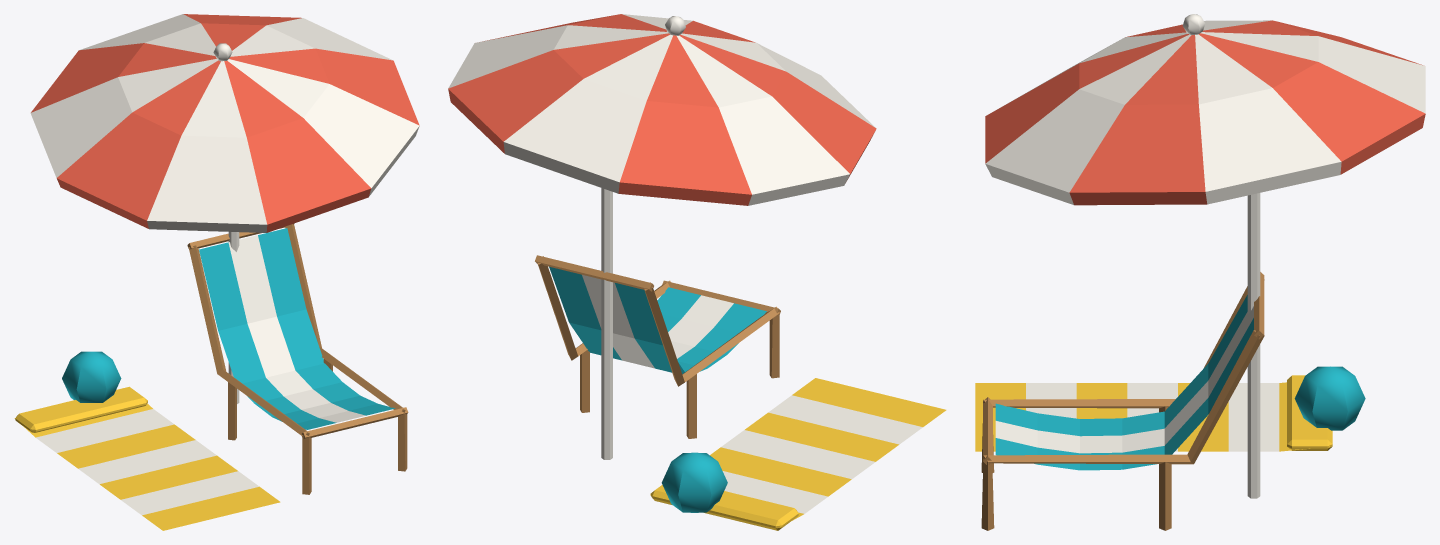
File: beach_set.glb
3 views of the same model, side by side, from view 1: azimuth 30°, elevation 25°; view 2: azimuth 150°, elevation 25°; view 3: azimuth 270°, elevation 25° (orthographic). The views are drawn at different scales.
Visible parts, largest first — view 1: beach_set; view 2: beach_set; view 3: beach_set.
Boxes of the visible parts, x1,y1,x2,y2 form: beach_set: [14, 14, 419, 530]; beach_set: [448, 14, 946, 530]; beach_set: [975, 14, 1425, 530].
Size of the model in its own units: 1.83 by 2.01 by 1.78.
